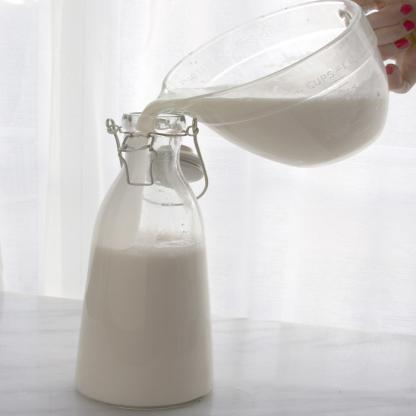milk: (83, 118, 219, 415), (161, 4, 389, 171)
